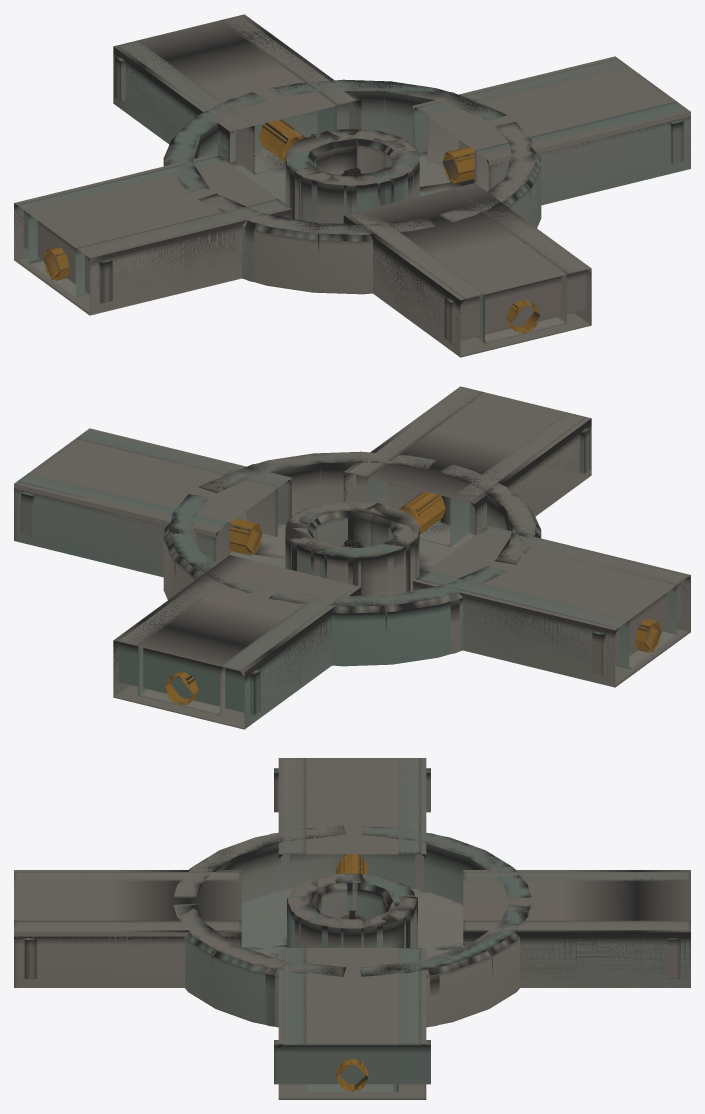
File: place_works_conduit_power_cross.glb
The picture shows the model from 3 angles, top to bottom: view 1: azimuth 30°, elevation 25°; view 2: azimuth 150°, elevation 25°; view 3: azimuth 270°, elevation 25°; orthographic projection. The views are drawn at different scales.
Visible parts, largest first — view 1: LOD0_Merged_Material_Atlas, LOD2_Merged_Material_Atlas, LOD1_Merged_Material_Atlas; view 2: LOD0_Merged_Material_Atlas, LOD2_Merged_Material_Atlas, LOD1_Merged_Material_Atlas; view 3: LOD0_Merged_Material_Atlas, LOD2_Merged_Material_Atlas, LOD1_Merged_Material_Atlas.
Part boxes in pixels (box(x1,y1,x2,y2)): LOD0_Merged_Material_Atlas: box(14, 15, 690, 357); LOD2_Merged_Material_Atlas: box(14, 14, 690, 354); LOD1_Merged_Material_Atlas: box(44, 81, 540, 333); LOD0_Merged_Material_Atlas: box(14, 387, 690, 729); LOD2_Merged_Material_Atlas: box(14, 386, 690, 726); LOD1_Merged_Material_Atlas: box(164, 453, 660, 705); LOD0_Merged_Material_Atlas: box(14, 758, 690, 1099); LOD2_Merged_Material_Atlas: box(14, 758, 690, 1091); LOD1_Merged_Material_Atlas: box(174, 826, 530, 1090).
Bounding box in the file's own units: 2.2 × 0.2 × 2.2.
1 material, 1 textured.
